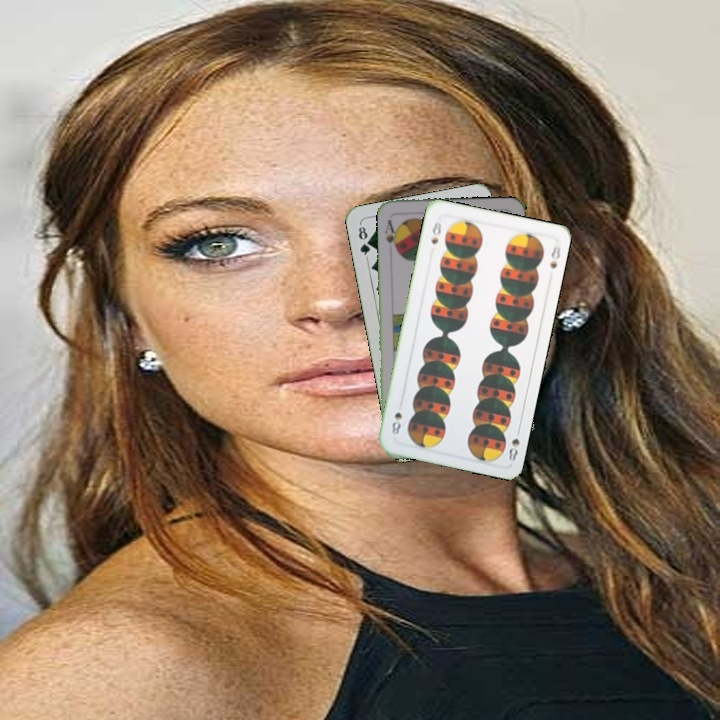G8: (354, 220, 373, 261)
S8: (504, 424, 523, 463), (427, 214, 444, 247)
SA: (380, 216, 400, 254)
